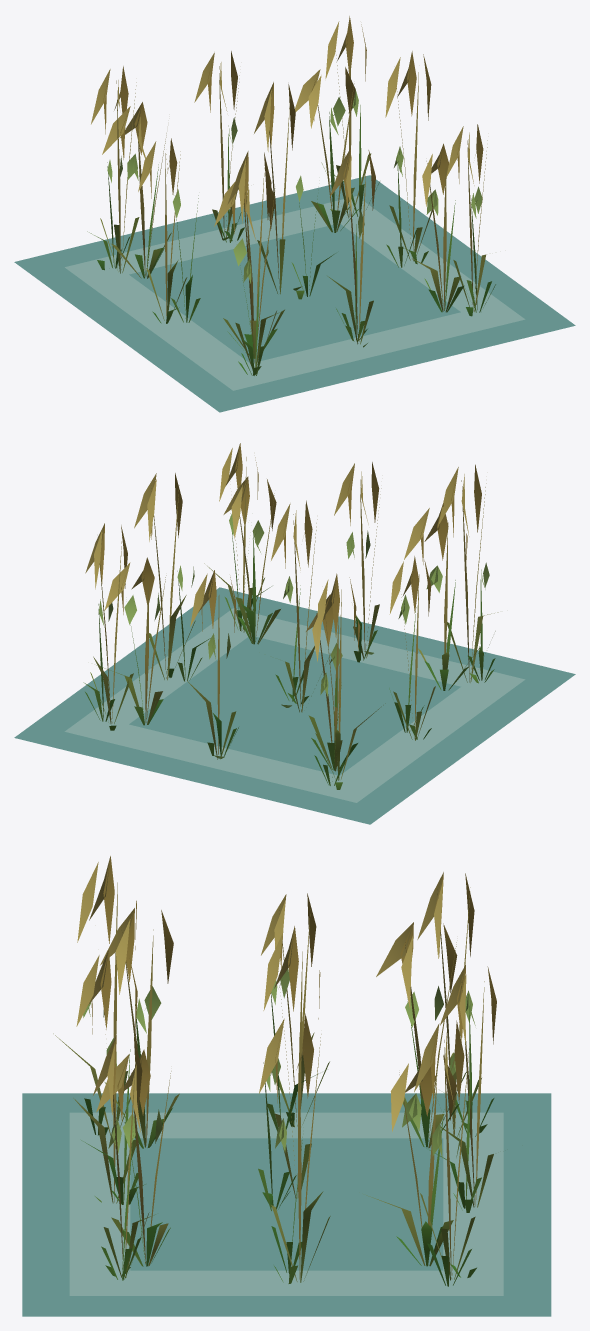
Rendered from rice.glb.
3 renders of one model, top to bottom at view 1: azimuth 30°, elevation 25°; view 2: azimuth 150°, elevation 25°; view 3: azimuth 270°, elevation 25°, orthographic. The views are drawn at different scales.
Parts seen in each view (by area): view 1: crop-rice-2-far, crop-rice-1, crop-rice-3, crop-rice-3-far, crop-rice-2; view 2: crop-rice-2-far, crop-rice-1, crop-rice-3, crop-rice-3-far, crop-rice-2; view 3: crop-rice-2-far, crop-rice-1, crop-rice-3, crop-rice-3-far, crop-rice-2.
Part boxes in pixels (x1,y1,x2,y2): crop-rice-2-far: (14, 97, 575, 412); crop-rice-1: (65, 196, 525, 390); crop-rice-3: (91, 16, 487, 368); crop-rice-3-far: (102, 67, 460, 358); crop-rice-2: (87, 90, 495, 375); crop-rice-2-far: (14, 520, 575, 824); crop-rice-1: (65, 608, 525, 802); crop-rice-3: (85, 443, 498, 780); crop-rice-3-far: (96, 476, 481, 771); crop-rice-2: (83, 513, 495, 785); crop-rice-2-far: (22, 986, 551, 1316); crop-rice-1: (70, 1112, 503, 1295); crop-rice-3: (53, 856, 496, 1282); crop-rice-3-far: (96, 908, 466, 1266); crop-rice-2: (69, 969, 494, 1295).
Bounding box in the file's own units: 1.89 × 0.9874 × 1.76.
